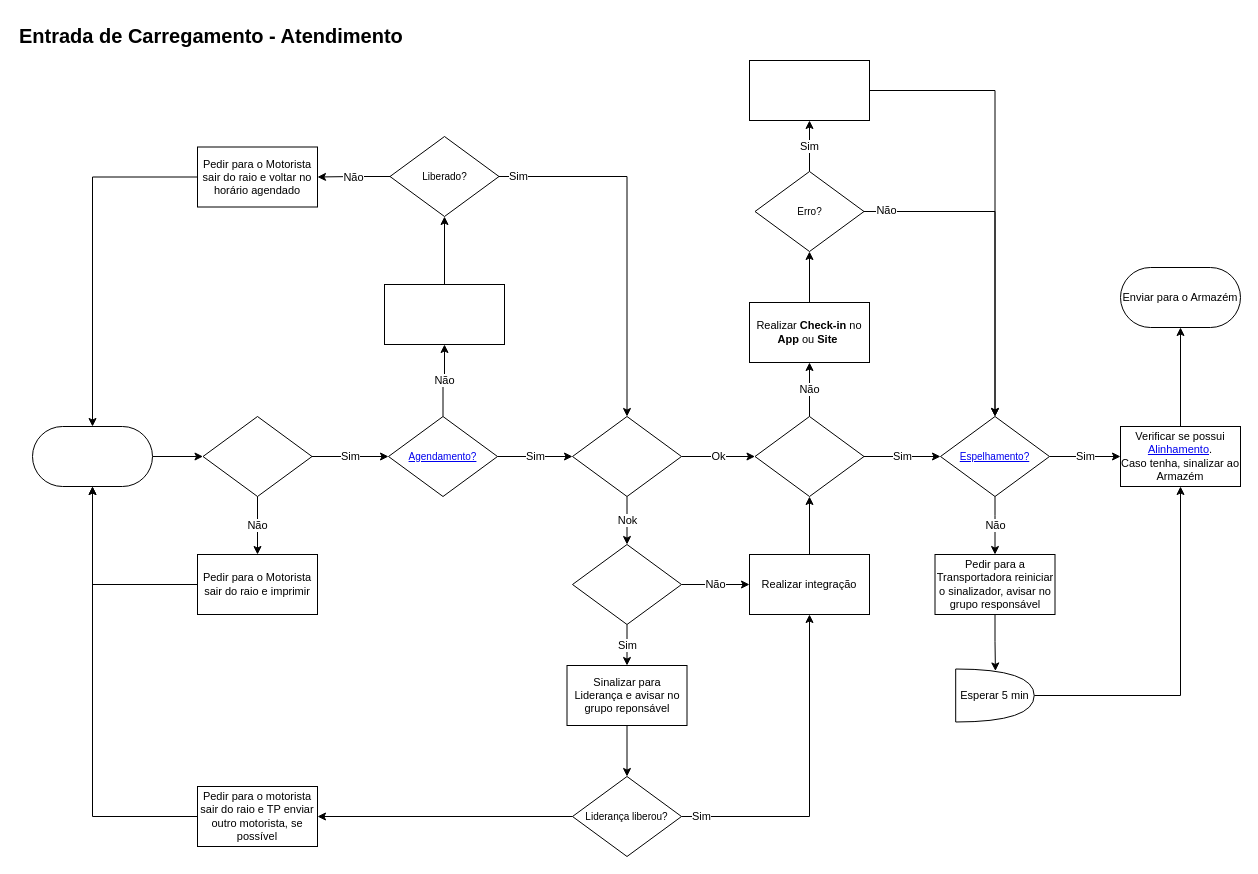
This 1258x874 diagram has some shape labels left out. Here are the shapes that lost their labels. From the top down, the box of each, then its label:
(748, 60, 870, 120): Realizar Entrada Manual [LOG35]
(384, 284, 504, 344): Verificar com a Liderança e Armazém
(32, 426, 152, 486): Motorista chega no Atendimento
(202, 416, 312, 496): Ordem de coleta?
(572, 416, 682, 496): Integração?
(754, 416, 864, 496): Egates?
(572, 544, 682, 624): Bloqueado?
